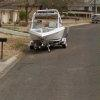Boat: (21, 7, 66, 57)
